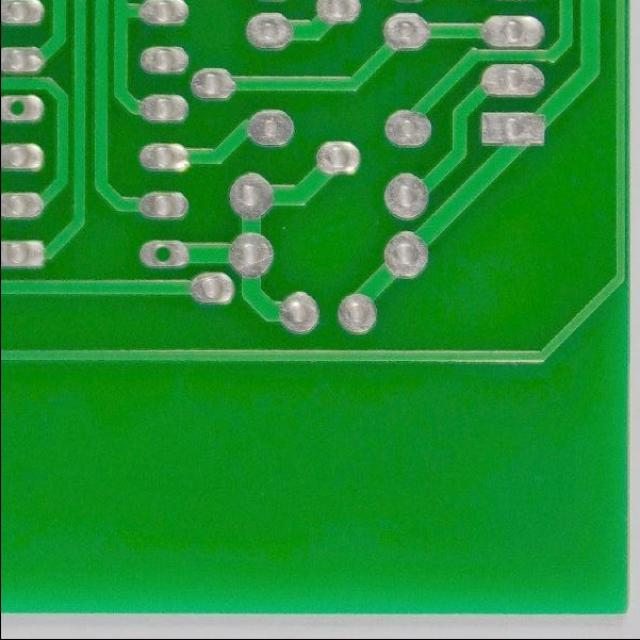missing_hole: (143, 238, 182, 272), (1, 94, 30, 124)
